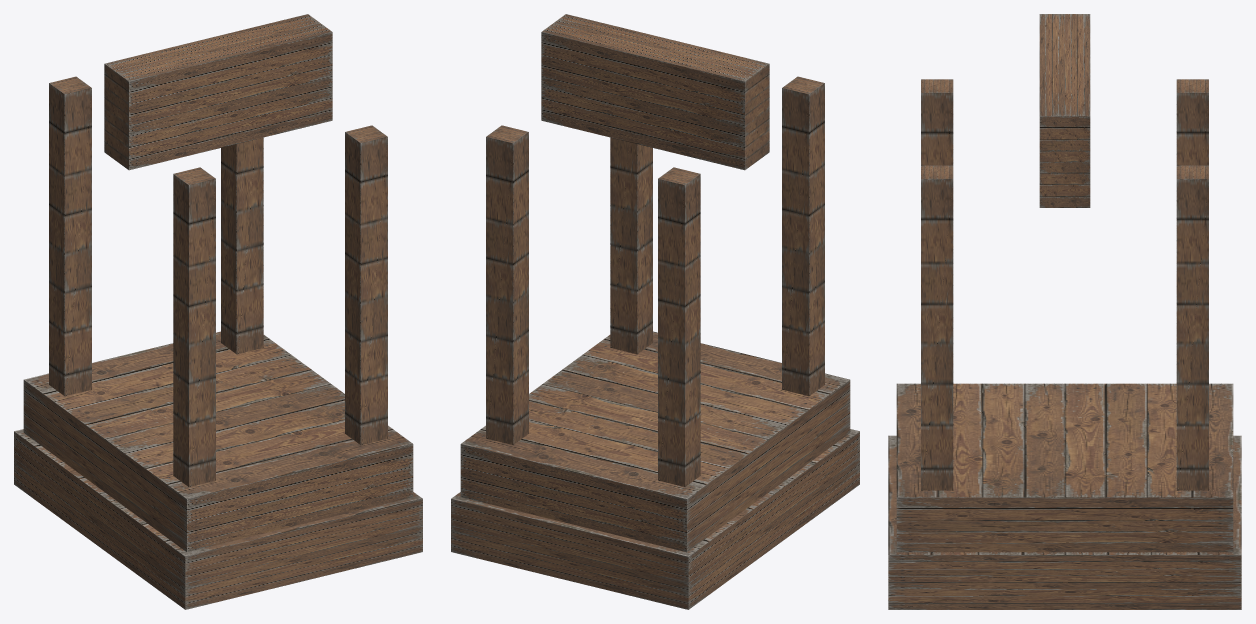
The model's file is mead_hall.obj.
3 renders of one model, left to right at view 1: azimuth 30°, elevation 25°; view 2: azimuth 150°, elevation 25°; view 3: azimuth 270°, elevation 25°, orthographic. The views are drawn at different scales.
Parts seen in each view (by area): view 1: building; view 2: building; view 3: building.
Boxes of the visible parts, x1=… form: building: x1=14, y1=14, x2=422, y2=609; building: x1=451, y1=14, x2=859, y2=609; building: x1=888, y1=14, x2=1241, y2=609.
Size of the model in its own units: 4.2 by 7.95 by 5.25.
